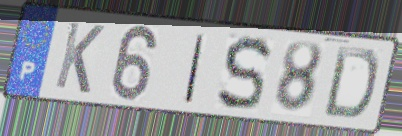6: (109, 23, 159, 103)
8: (271, 39, 324, 117)
D: (320, 43, 382, 123)
I: (181, 32, 208, 106)
K: (52, 18, 108, 97)
S: (214, 34, 274, 114)
